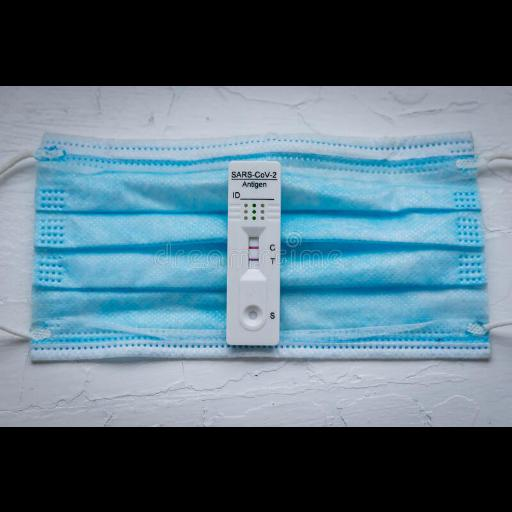Pos: (229, 160, 279, 344)
